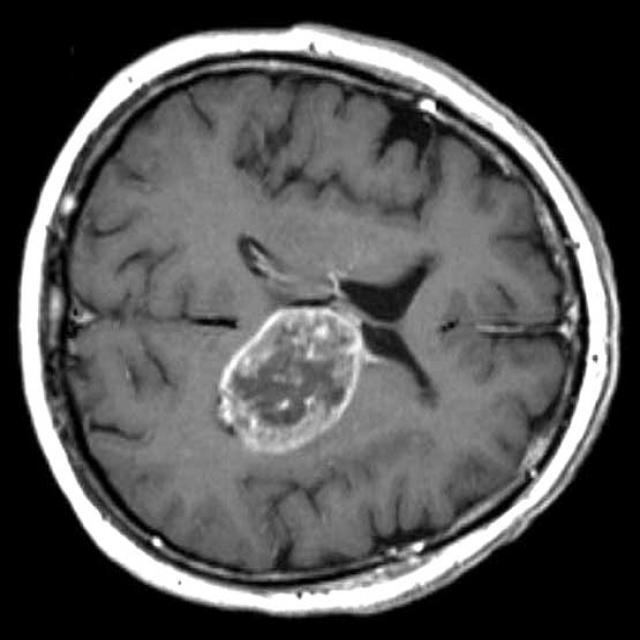tumor: (217, 291, 372, 454)
